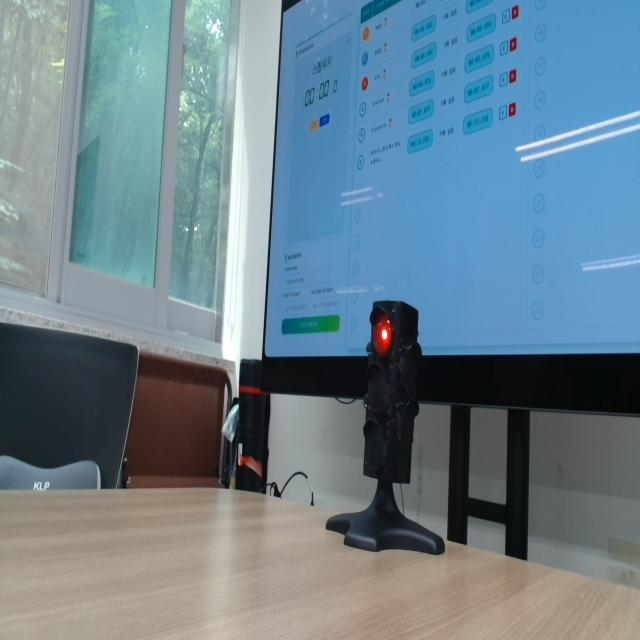red_light: (372, 314, 393, 356)
